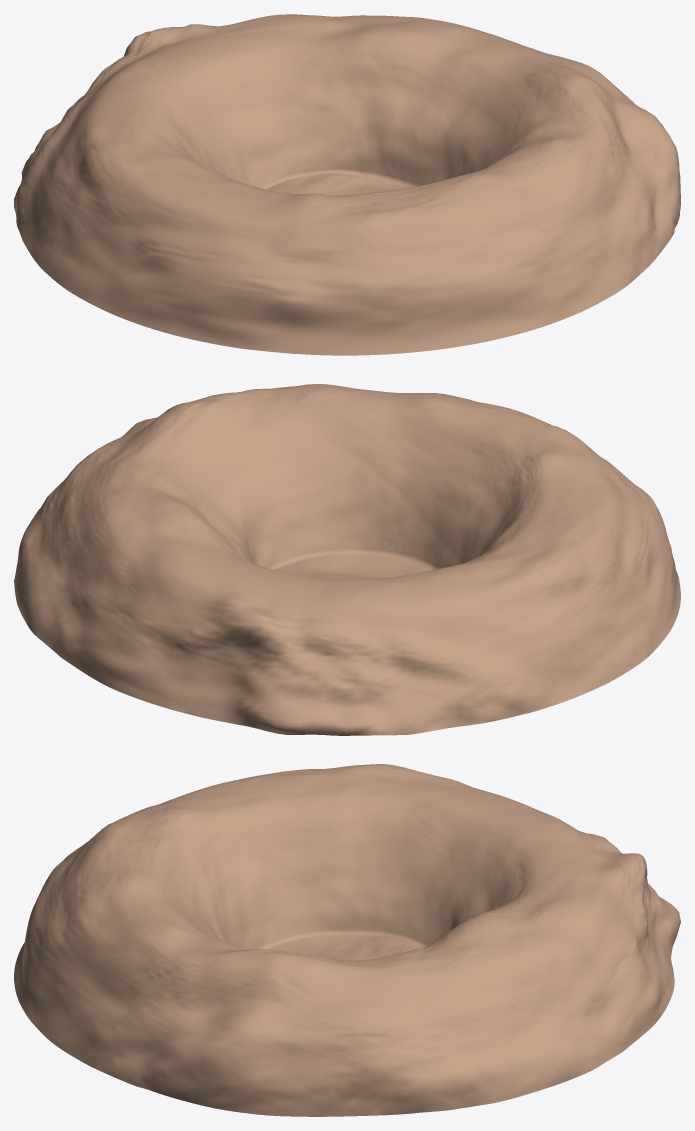
Rendered from Niu_high.fbx.
The picture shows the model from 3 angles, top to bottom: view 1: azimuth 30°, elevation 25°; view 2: azimuth 150°, elevation 25°; view 3: azimuth 270°, elevation 25°; orthographic projection.
Parts seen in each view (by area): view 1: niu_high; view 2: niu_high; view 3: niu_high.
Boxes of the visible parts, x1,y1,x2,y2 form: niu_high: (14, 14, 680, 355); niu_high: (14, 384, 680, 735); niu_high: (14, 764, 680, 1116).
Size of the model in its own units: 343 by 343 by 68.46.
